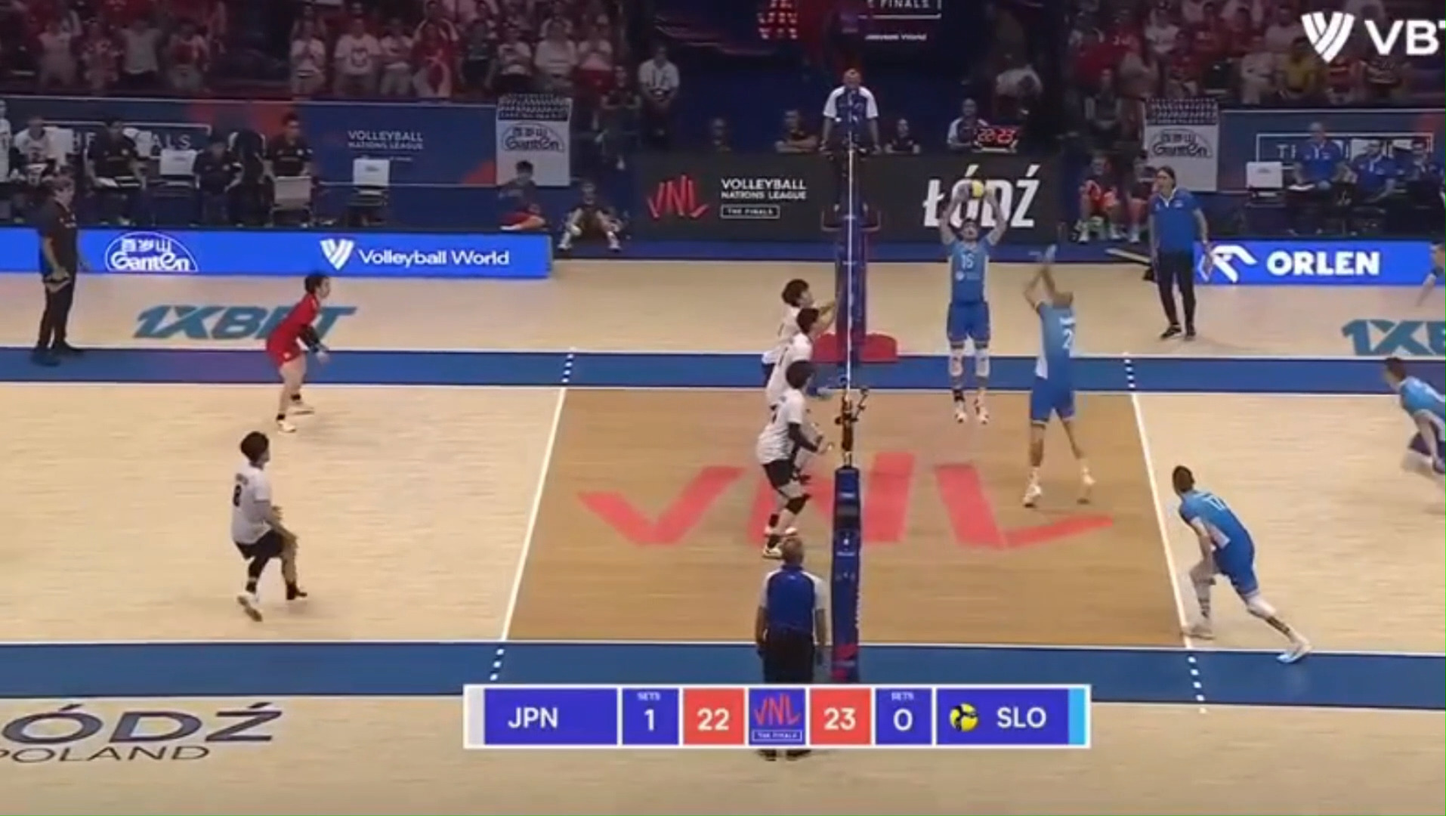ball: (971, 181, 984, 197)
player: (1171, 465, 1309, 663), (1021, 246, 1095, 507), (939, 181, 1007, 424), (1383, 357, 1445, 482), (1417, 242, 1445, 304)
player 1: (230, 431, 307, 621), (756, 359, 827, 558), (266, 273, 330, 432), (761, 278, 815, 382), (765, 306, 820, 406), (820, 304, 833, 317)
referee: (755, 534, 828, 682), (1148, 165, 1207, 339), (819, 69, 881, 232), (32, 176, 82, 364)
